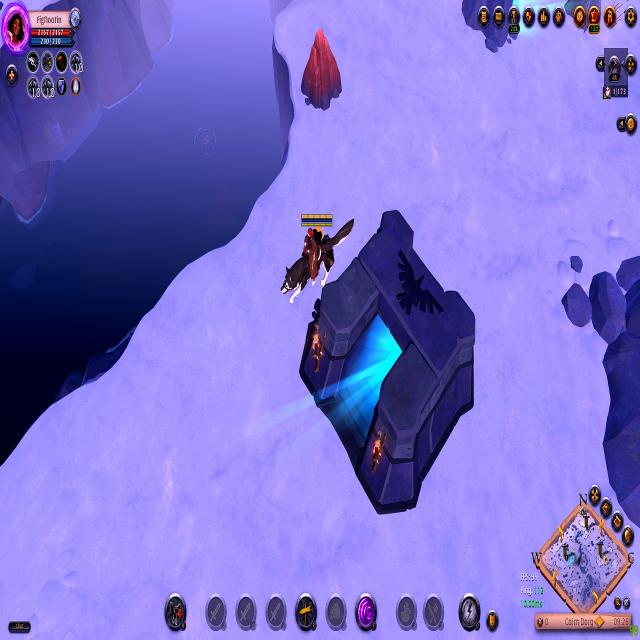red: (278, 210, 357, 306)
tree: (294, 24, 352, 115)
